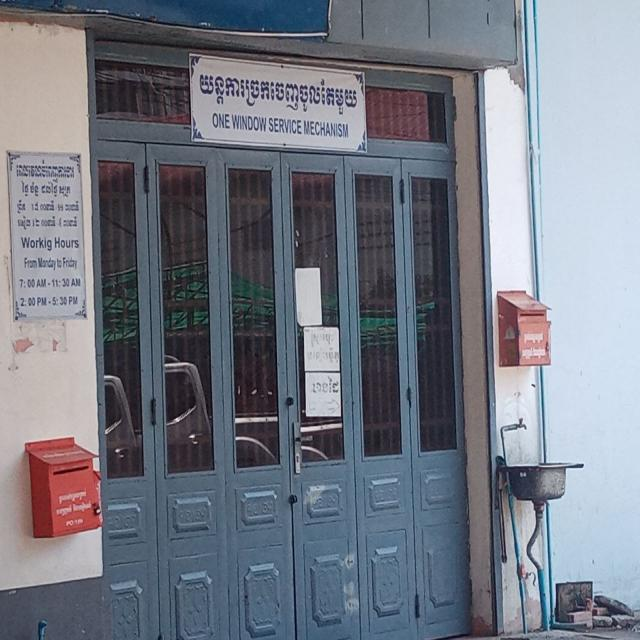Yolov11_80vkh: (188, 61, 364, 122)
